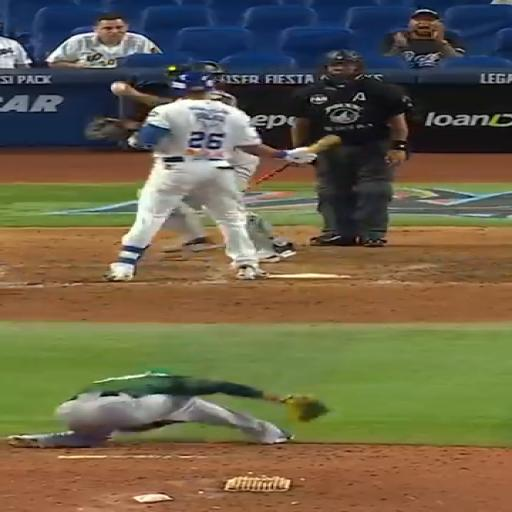bat: (248, 163, 291, 189), (251, 163, 291, 187), (308, 135, 341, 154)
